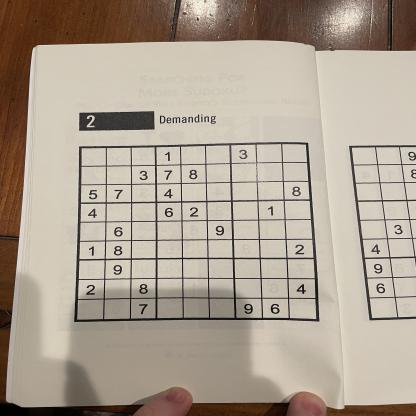sudoku: (70, 140, 321, 325)
